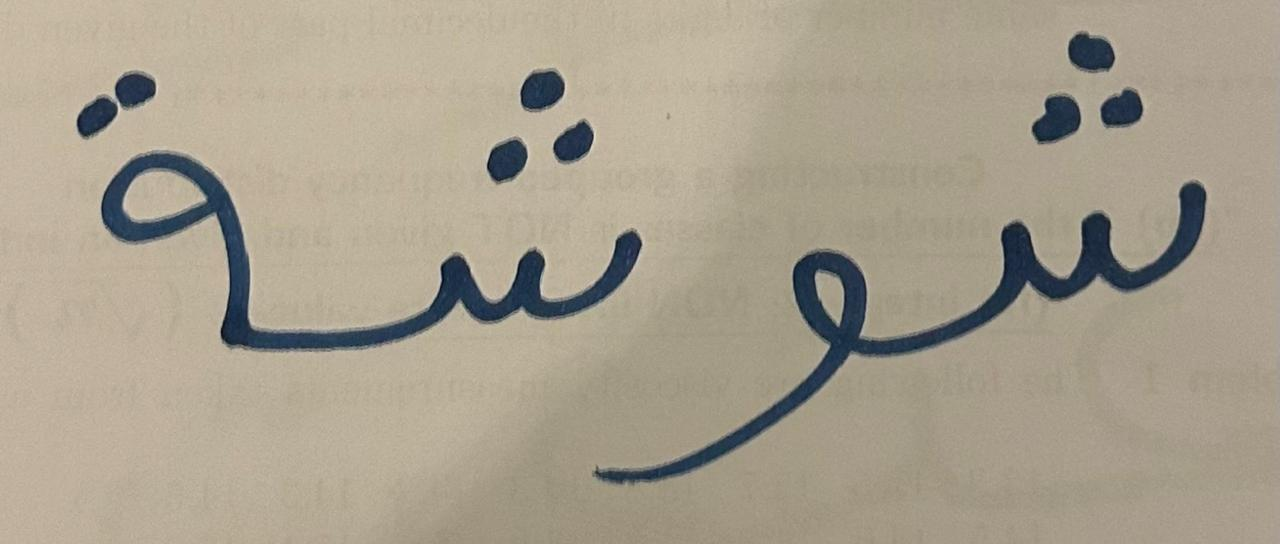tah: (924, 10, 1244, 423), (364, 9, 651, 408)
thal: (33, 14, 361, 411)
yeh: (655, 146, 918, 504)
